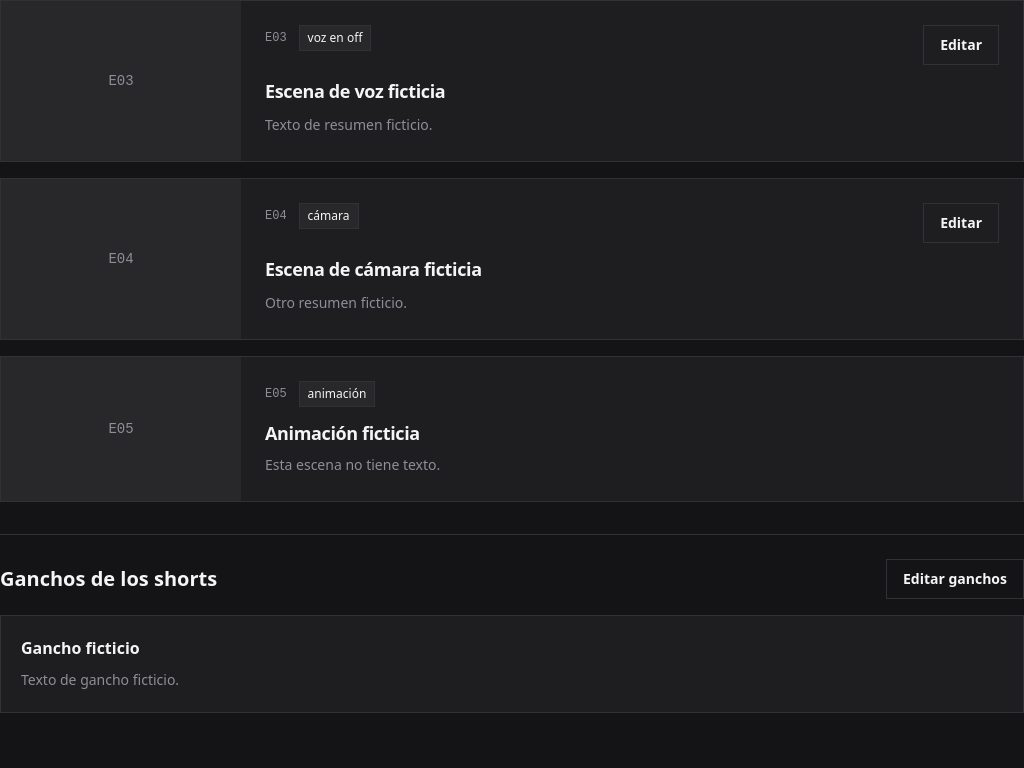
Test case: GuionEditable › protege el texto de E03 desactivando las demás ediciones
The image size is (1024, 768).
Click the button with aria-label "Editar E03" at (961, 45), box [923,25,999,65]
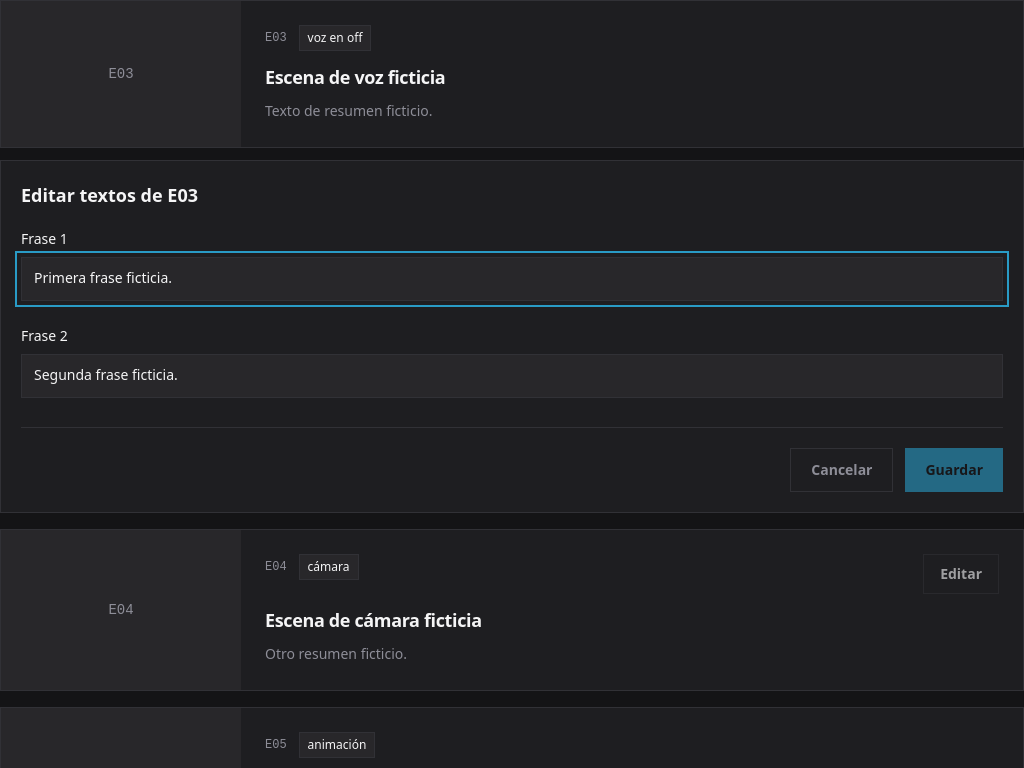
Type " con cambios" into the text box labelled "Frase 2" at (512, 376), box [21,354,1003,398]
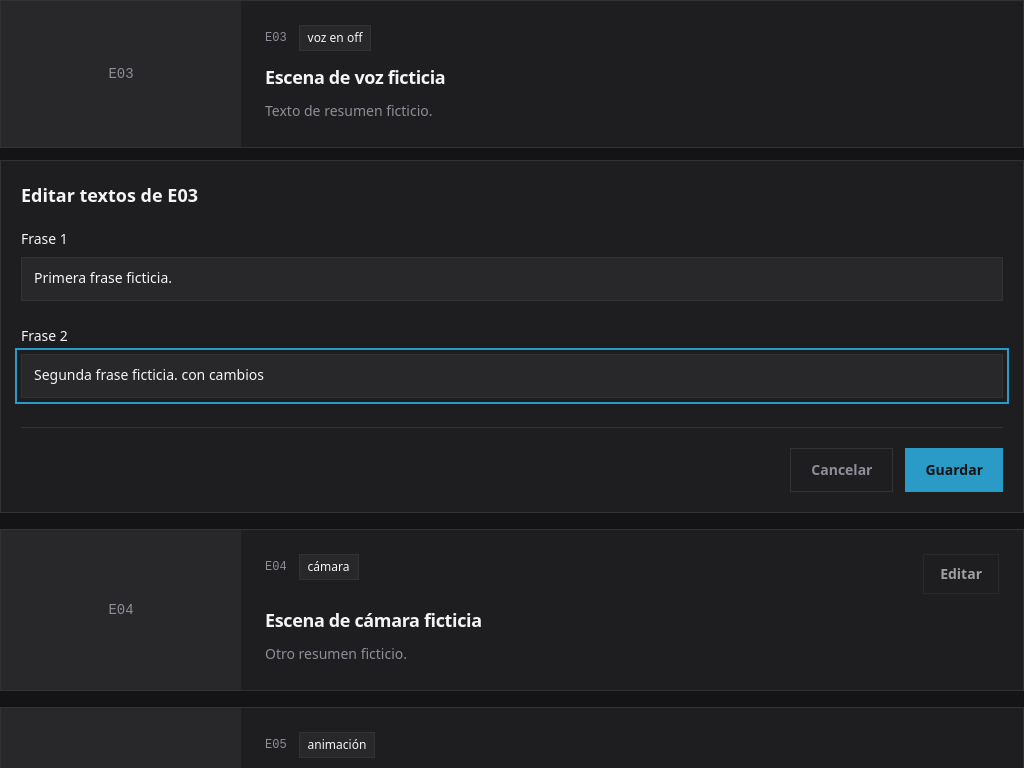
Expected: the button with aria-label "Editar E04" is disabled, [923,554,999,594]
Expected: the text box labelled "Frase 2" holds "Segunda frase ficticia. con cambios", [21,354,1003,398]
